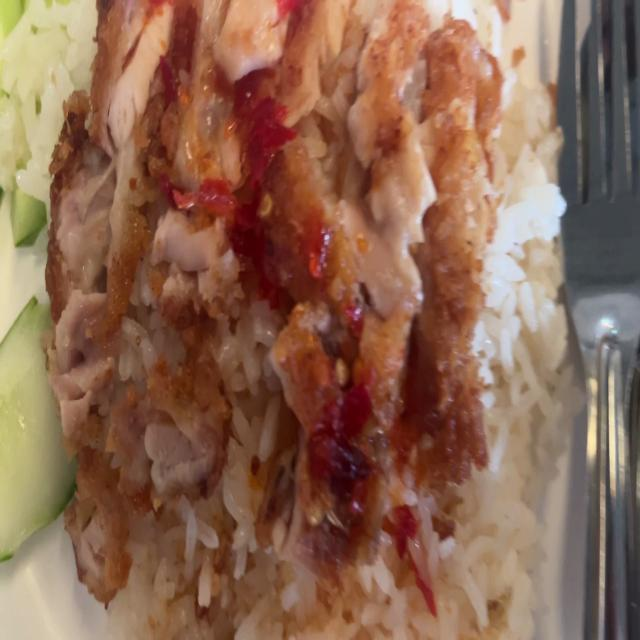chicken_rice: (0, 0, 585, 640)
cucumber: (0, 293, 83, 564), (0, 0, 56, 248)
fried_chicken: (57, 0, 497, 634)
